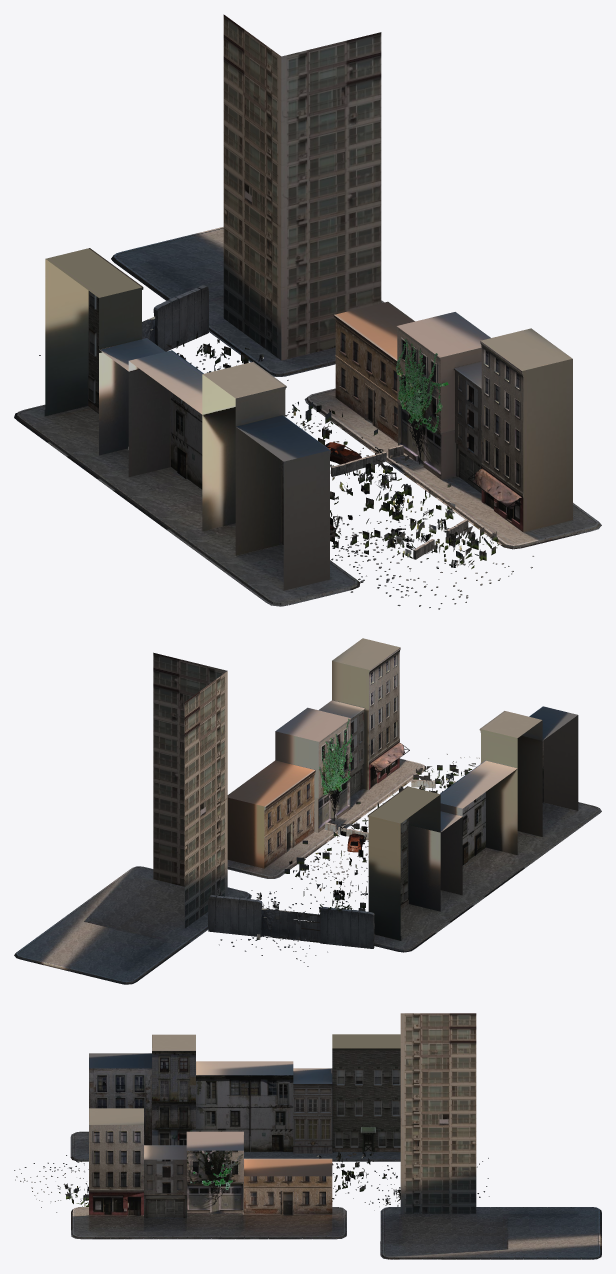
Rendered from postwar.glb.
The picture shows the model from 3 angles, top to bottom: view 1: azimuth 30°, elevation 25°; view 2: azimuth 150°, elevation 25°; view 3: azimuth 270°, elevation 25°; orthographic projection. The views are drawn at different scales.
Parts seen in each view (by area): view 1: TexturesCom_HighRiseTowers0146_S, TexturesCom_HighRiseResidential0035_S, TexturesCom_BuildingsHouseOld0007_M, TexturesCom_BuildingsTallHouse0057_S, Circle, TexturesCom_BuildingsDerelict0001_M, TexturesCom_Buildings18thCentury0035_1_S, TexturesCom_BuildingsDerelict0132_S, Circle.005, TexturesCom_BuildingsHouseOld0203_S, Circle.004, TexturesCom_BuildingsHouseOld0005_M (+11 smaller); view 2: TexturesCom_HighRiseTowers0146_S, Circle.005, TexturesCom_BuildingsDerelict0132_S, TexturesCom_BuildingsHouseOld0007_M, TexturesCom_BuildingsTallHouse0057_S, TexturesCom_HighRiseResidential0035_S, Circle, TexturesCom_Buildings18thCentury0035_1_S, TexturesCom_BuildingsHouseOld0203_S, TexturesCom_BuildingsDerelict0001_M, TexturesCom_BuildingsHouseOld0005_M, Circle.004 (+12 smaller); view 3: TexturesCom_HighRiseTowers0146_S, Circle.005, TexturesCom_BuildingsTallHouse0057_S, TexturesCom_BuildingsHouseOld0005_M, Circle.004, TexturesCom_HighRiseResidential0035_S, TexturesCom_BuildingsDerelict0132_S, TexturesCom_BuildingsHouseOld0007_M, TexturesCom_BuildingsDerelict0001_M, TexturesCom_Buildings18thCentury0035_1_S, TexturesCom_BuildingsHouseOld0203_S, TexturesCom_BuildingsDerelict0068_S (+9 smaller).
Boxes of the visible parts, x1,y1,x2,y2 form: TexturesCom_HighRiseTowers0146_S: (223, 14, 381, 360); TexturesCom_HighRiseResidential0035_S: (480, 328, 572, 532); TexturesCom_BuildingsHouseOld0007_M: (202, 361, 286, 555); TexturesCom_BuildingsTallHouse0057_S: (44, 248, 143, 416); Circle: (19, 406, 354, 601); TexturesCom_BuildingsDerelict0001_M: (236, 415, 330, 590); TexturesCom_Buildings18thCentury0035_1_S: (99, 338, 170, 477); TexturesCom_BuildingsDerelict0132_S: (333, 301, 414, 442); Circle.005: (116, 228, 381, 372); TexturesCom_BuildingsHouseOld0203_S: (396, 312, 490, 433); Circle.004: (310, 390, 596, 544); TexturesCom_BuildingsHouseOld0005_M: (128, 350, 203, 489); TexturesCom_HighRiseTowers0146_S: (153, 652, 227, 928); Circle.005: (18, 867, 247, 981); TexturesCom_BuildingsDerelict0132_S: (227, 760, 315, 868); TexturesCom_BuildingsHouseOld0007_M: (479, 711, 542, 854); TexturesCom_BuildingsTallHouse0057_S: (367, 786, 440, 940); TexturesCom_HighRiseResidential0035_S: (332, 638, 400, 789); Circle: (374, 802, 597, 948); TexturesCom_Buildings18thCentury0035_1_S: (408, 811, 462, 911); TexturesCom_BuildingsHouseOld0203_S: (275, 707, 351, 798); TexturesCom_BuildingsDerelict0001_M: (529, 706, 578, 810); TexturesCom_BuildingsHouseOld0005_M: (440, 760, 517, 865); Circle.004: (227, 759, 422, 875); TexturesCom_HighRiseTowers0146_S: (400, 1013, 476, 1213); Circle.005: (384, 1207, 598, 1258); TexturesCom_BuildingsTallHouse0057_S: (332, 1034, 400, 1152); TexturesCom_BuildingsHouseOld0005_M: (196, 1061, 293, 1151); Circle.004: (74, 1207, 343, 1237); TexturesCom_HighRiseResidential0035_S: (89, 1108, 143, 1215); TexturesCom_BuildingsDerelict0132_S: (244, 1158, 332, 1215); TexturesCom_BuildingsHouseOld0007_M: (152, 1034, 195, 1145); TexturesCom_BuildingsDerelict0001_M: (89, 1053, 151, 1145); TexturesCom_Buildings18thCentury0035_1_S: (293, 1068, 332, 1153); TexturesCom_BuildingsHouseOld0203_S: (186, 1131, 243, 1181); TexturesCom_BuildingsDerelict0068_S: (144, 1145, 186, 1194).
Size of what is drawn, in the model's own units: 32.33 by 24.01 by 63.
19 materials, 19 textured.
